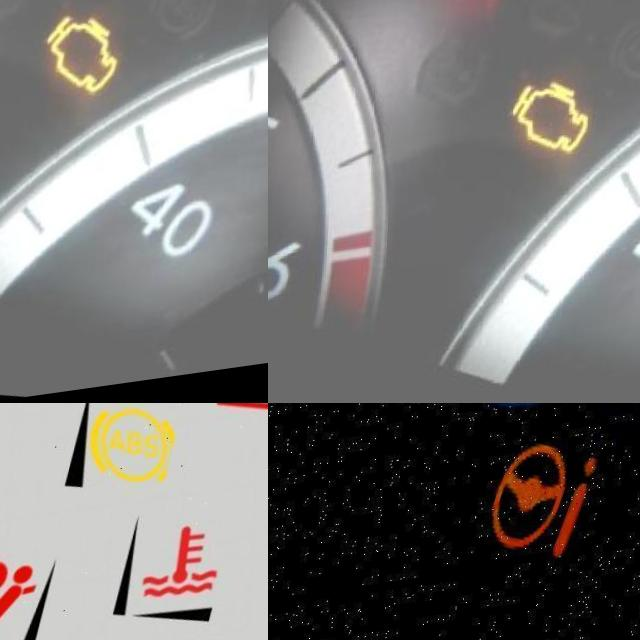Electronic Power Steering: (470, 403, 630, 596)
